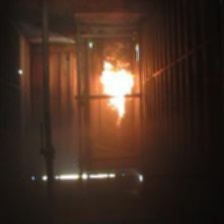fire: (92, 62, 149, 133)
